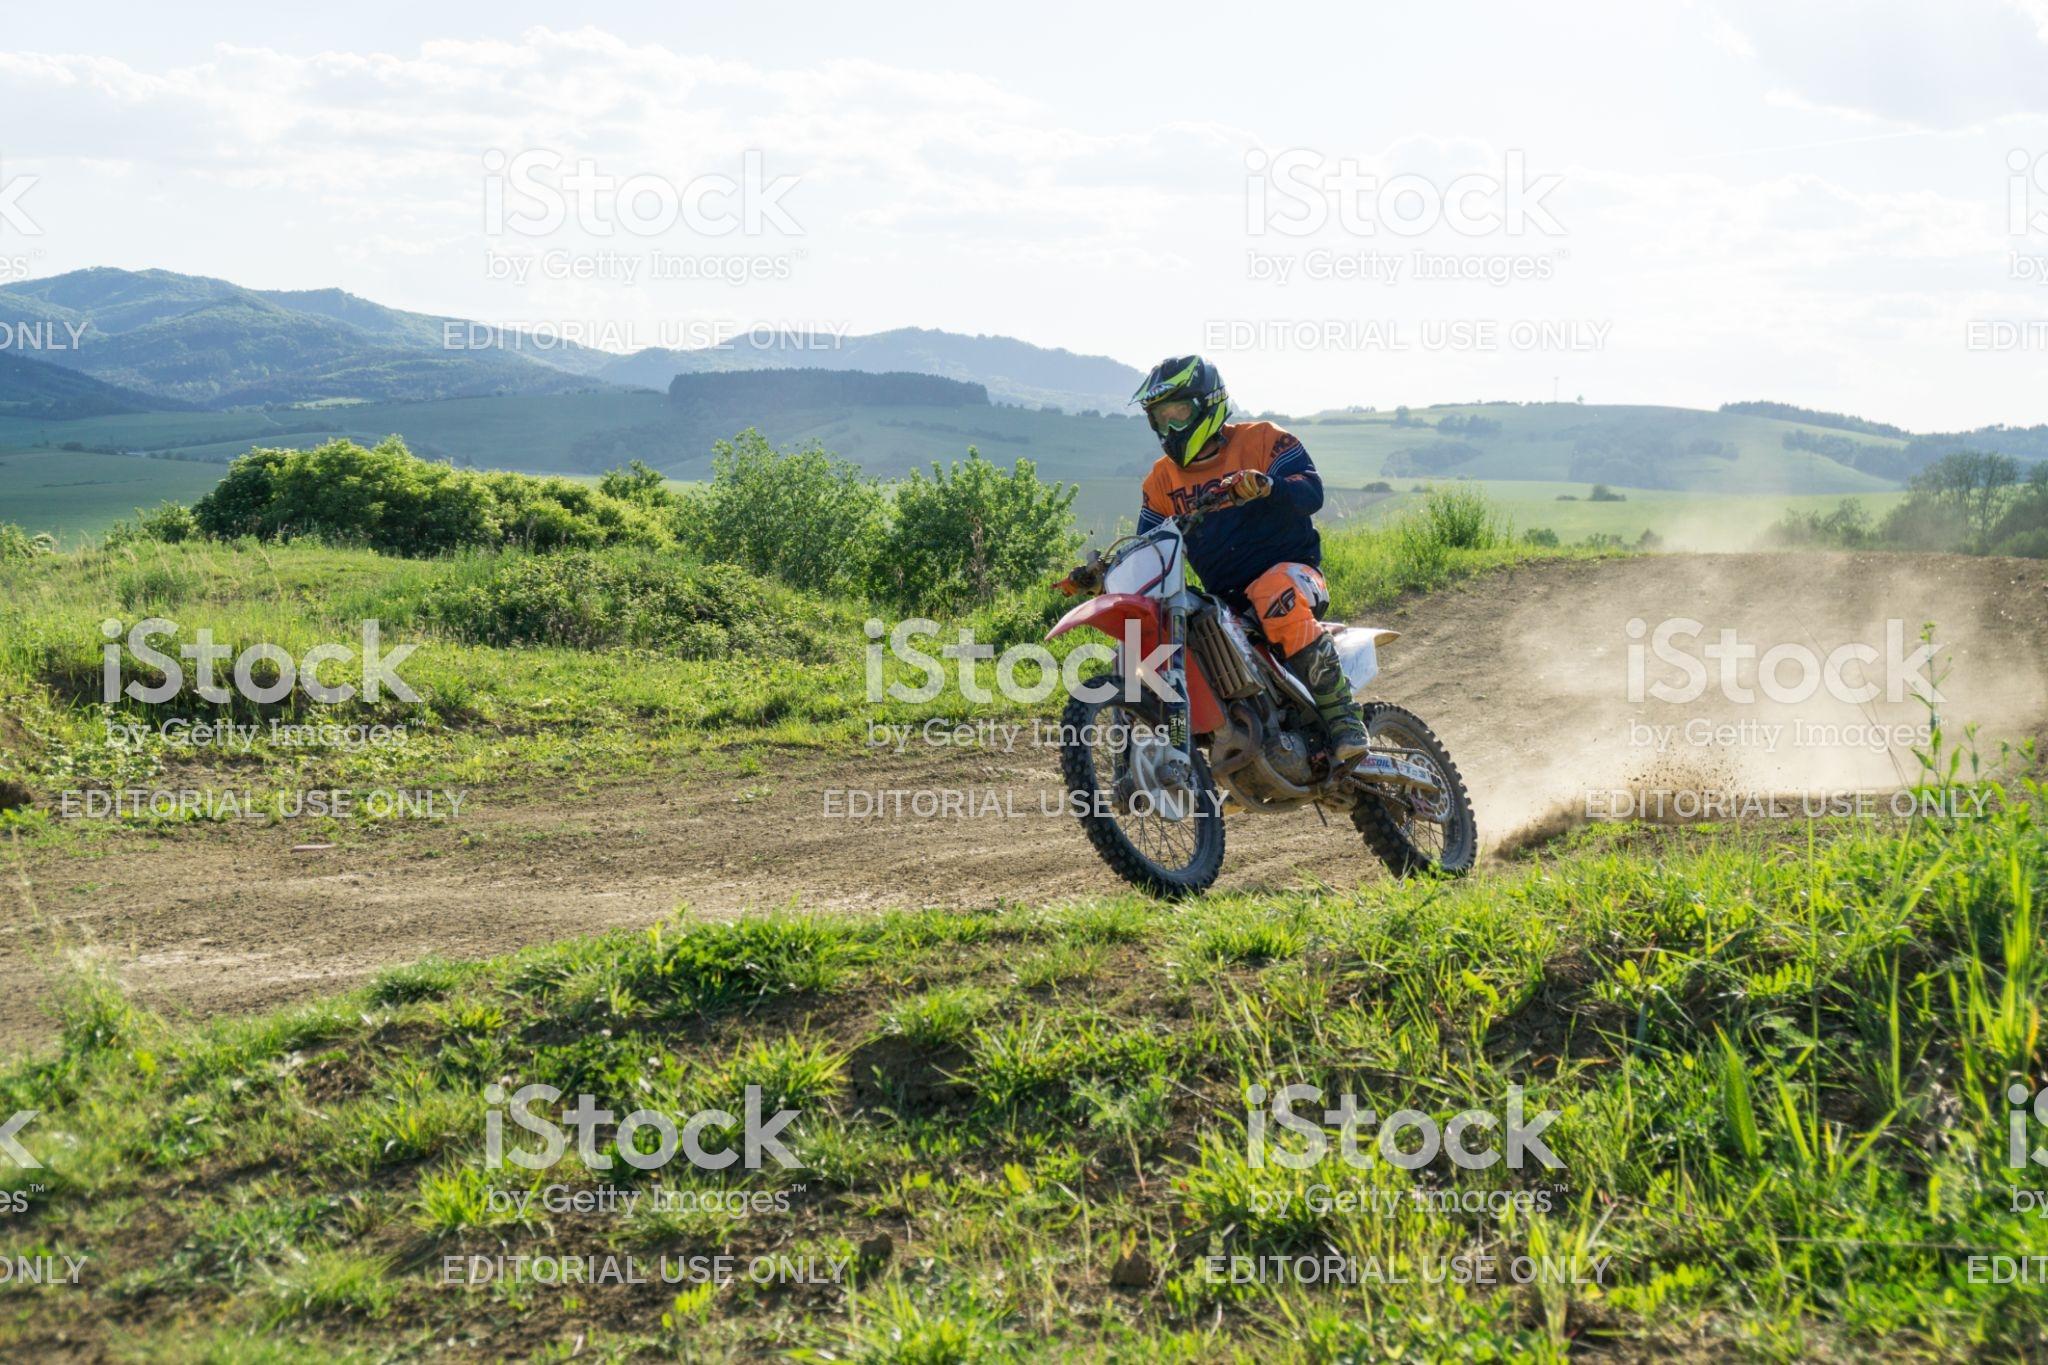helmet: (1144, 356, 1250, 471)
